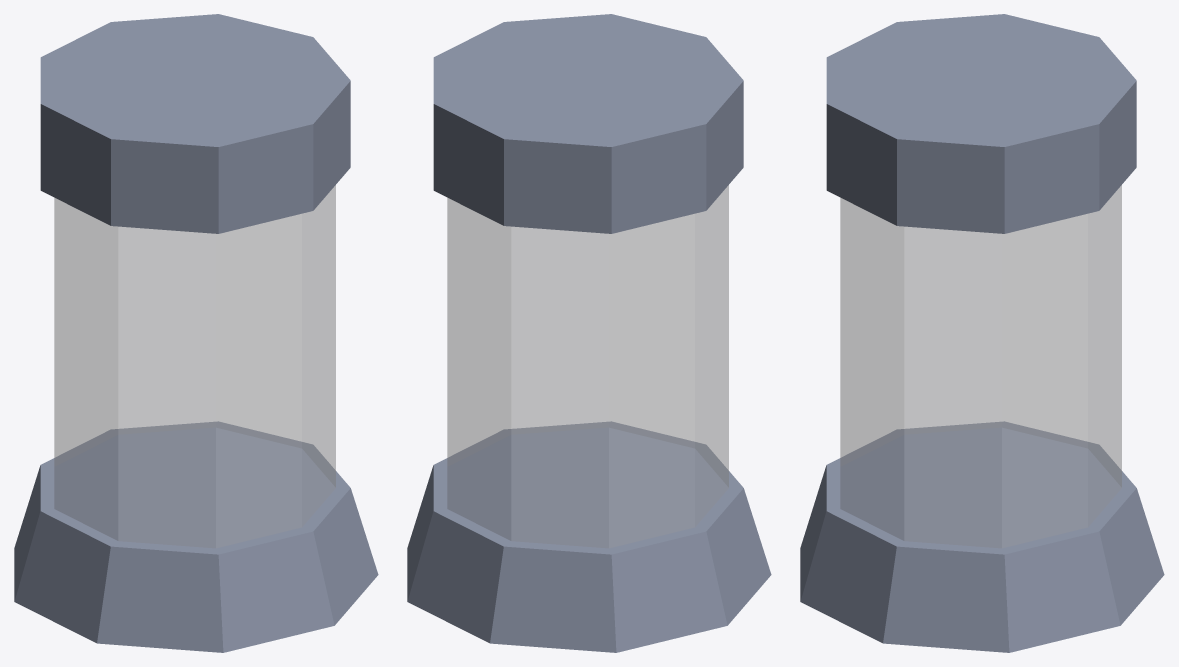
Rendered from robo-pad-empty-glass.fbx.
3 renders of one model, left to right at view 1: azimuth 30°, elevation 25°; view 2: azimuth 150°, elevation 25°; view 3: azimuth 270°, elevation 25°, orthographic.
Parts seen in each view (by area): view 1: robo-pad-empty-glass; view 2: robo-pad-empty-glass; view 3: robo-pad-empty-glass.
Boxes of the visible parts, bbox=[...] form: robo-pad-empty-glass: bbox=[14, 14, 378, 652]; robo-pad-empty-glass: bbox=[407, 14, 771, 652]; robo-pad-empty-glass: bbox=[800, 14, 1164, 652].
Size of the model in its own units: 616 by 909 by 607.
